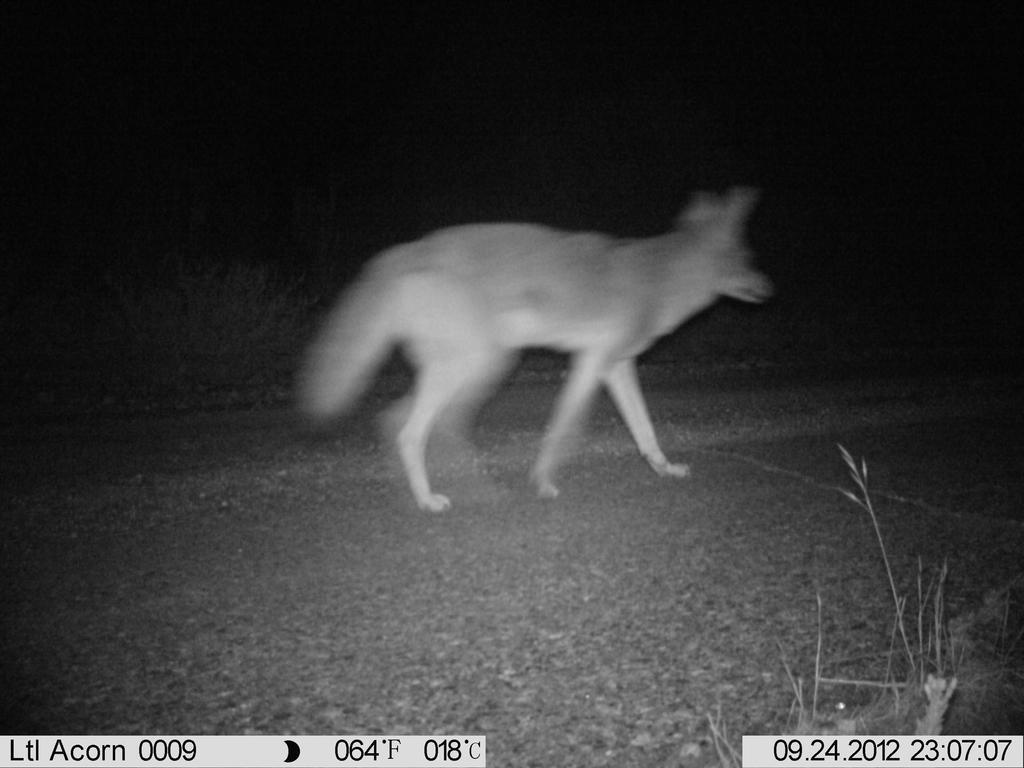coyote: (295, 168, 790, 519)
